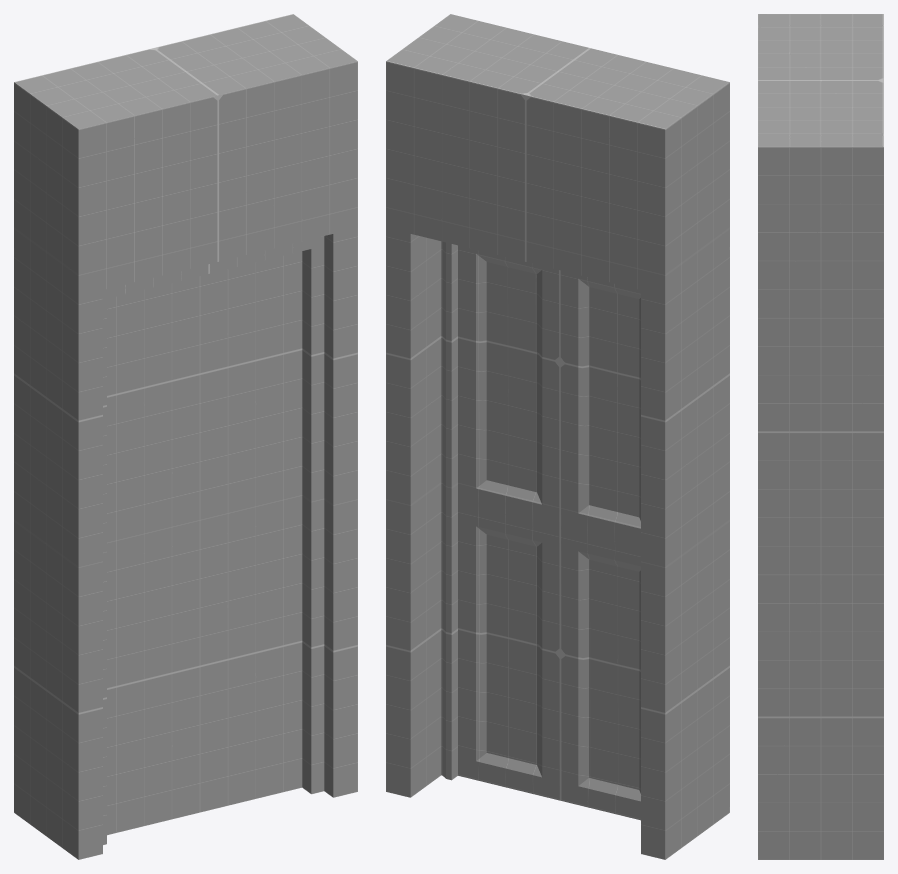
The model's file is Door_1x1.fbx.
3 views of the same model, side by side, from view 1: azimuth 30°, elevation 25°; view 2: azimuth 150°, elevation 25°; view 3: azimuth 270°, elevation 25° (orthographic). The views are drawn at different scales.
Parts seen in each view (by area): view 1: Door_1x1; view 2: Door_1x1; view 3: Door_1x1.
Part boxes in pixels (left/top/right/bottom): Door_1x1: left=14, top=14, right=357, bottom=859; Door_1x1: left=386, top=14, right=729, bottom=859; Door_1x1: left=758, top=14, right=883, bottom=859.
Size of the model in its own units: 100 by 250 by 40.
